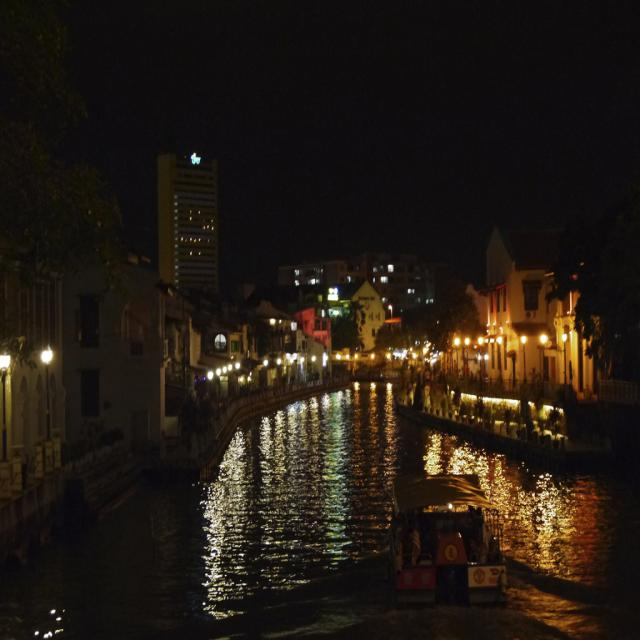Boat: (352, 442, 518, 629)
